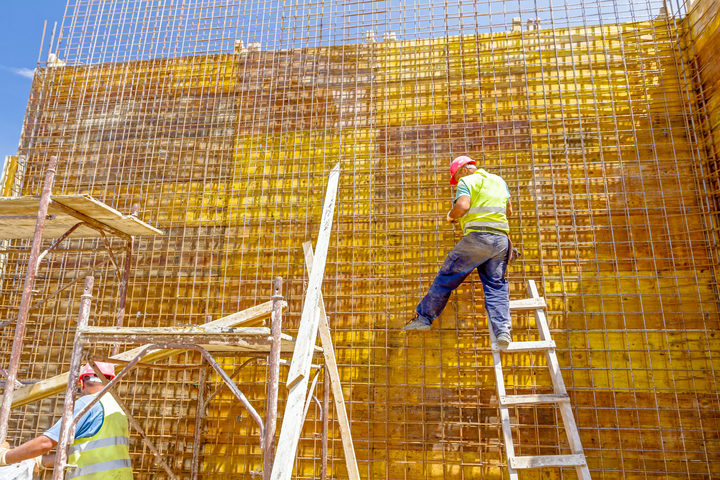hard hat: (446, 155, 475, 182), (76, 362, 117, 377)
high-vis: (64, 392, 134, 480), (460, 175, 508, 225)
